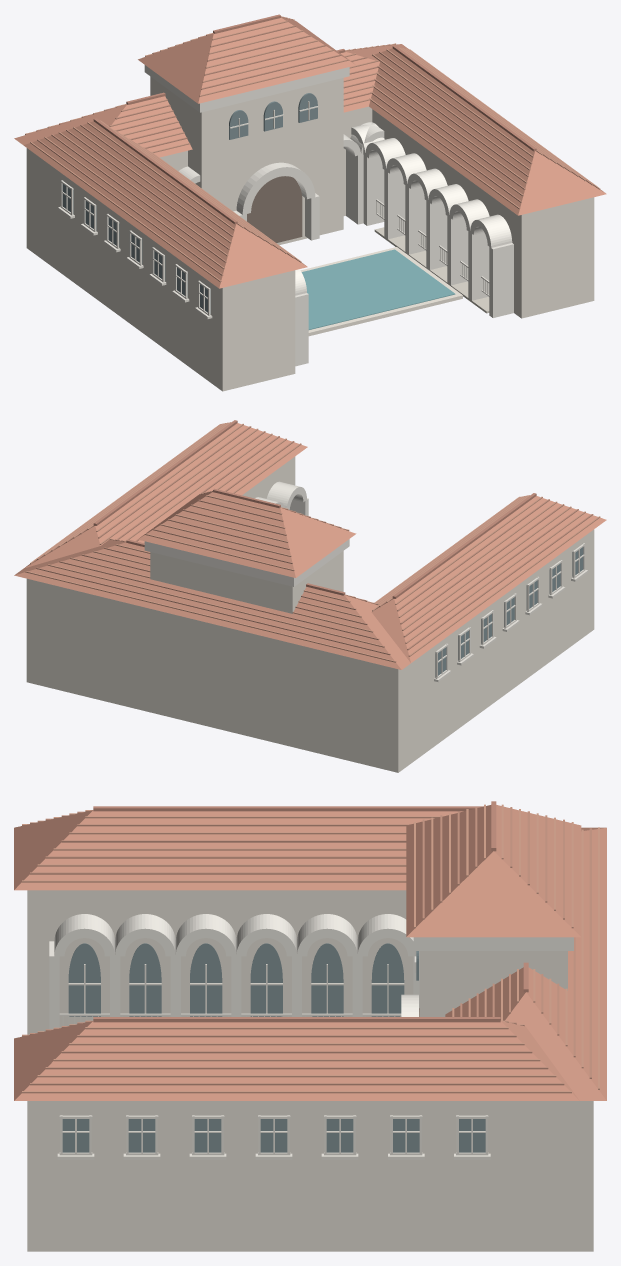
Rendered from hotel-el-prado.glb.
3 views of the same model, one above another, from view 1: azimuth 30°, elevation 25°; view 2: azimuth 150°, elevation 25°; view 3: azimuth 270°, elevation 25° (orthographic). The views are drawn at different scales.
Visible parts, largest first — view 1: hotel-el-prado · Ala occidental baja de la U, hotel-el-prado · Loggia abierta del ala oriental, hotel-el-prado · Torre central de una planta adicional, hotel-el-prado · Cubierta de teja del ala occidental, hotel-el-prado · Cubierta de teja del ala oriental, hotel-el-prado · Ala oriental baja de la U, hotel-el-prado · Cubierta inclinada de teja de la torre, hotel-el-prado · Piscina del patio central, hotel-el-prado · Ala posterior baja de la U, hotel-el-prado · Cubierta de teja del ala posterior, hotel-el-prado · Hueco profundo del portal documentado, hotel-el-prado · Arco moldurado del portal documentado (+9 smaller); view 2: hotel-el-prado · Ala posterior baja de la U, hotel-el-prado · Ala occidental baja de la U, hotel-el-prado · Cubierta de teja del ala posterior, hotel-el-prado · Cubierta de teja del ala occidental, hotel-el-prado · Cubierta inclinada de teja de la torre, hotel-el-prado · Cubierta de teja del ala oriental, hotel-el-prado · Torre central de una planta adicional, hotel-el-prado · Cornisa clara de la torre, hotel-el-prado · Loggia abierta del ala oriental, hotel-el-prado · Ala oriental baja de la U, hotel-el-prado · Hilada de teja, hotel-el-prado · Cumbrera de Cubierta de teja del ala occide (+8 smaller); view 3: hotel-el-prado · Ala oriental baja de la U, hotel-el-prado · Cubierta de teja del ala oriental, hotel-el-prado · Cubierta de teja del ala occidental, hotel-el-prado · Ala occidental baja de la U, hotel-el-prado · Cubierta inclinada de teja de la torre, hotel-el-prado · Ala posterior baja de la U, hotel-el-prado · Loggia abierta del ala occidental, hotel-el-prado · Cubierta de teja del ala posterior, hotel-el-prado · Torre central de una planta adicional, hotel-el-prado · Cumbrera de Cubierta de teja del ala orient, hotel-el-prado · Cumbrera de Cubierta de teja del ala occide, hotel-el-prado · Cornisa clara de la torre (+34 smaller).
Part boxes in pixels (left/top/right/bottom): hotel-el-prado · Ala occidental baja de la U: left=36, top=156, right=295, bottom=391; hotel-el-prado · Loggia abierta del ala oriental: left=351, top=122, right=513, bottom=317; hotel-el-prado · Torre central de una planta adicional: left=150, top=76, right=343, bottom=245; hotel-el-prado · Cubierta de teja del ala occidental: left=23, top=121, right=307, bottom=288; hotel-el-prado · Cubierta de teja del ala oriental: left=369, top=48, right=606, bottom=215; hotel-el-prado · Ala oriental baja de la U: left=372, top=109, right=594, bottom=318; hotel-el-prado · Cubierta inclinada de teja de la torre: left=138, top=17, right=355, bottom=103; hotel-el-prado · Piscina del patio central: left=301, top=249, right=455, bottom=329; hotel-el-prado · Ala posterior baja de la U: left=26, top=106, right=372, bottom=281; hotel-el-prado · Cubierta de teja del ala posterior: left=14, top=44, right=408, bottom=157; hotel-el-prado · Hueco profundo del portal documentado: left=247, top=176, right=302, bottom=242; hotel-el-prado · Arco moldurado del portal documentado: left=233, top=162, right=319, bottom=240; hotel-el-prado · Ala posterior baja de la U: left=26, top=578, right=444, bottom=772; hotel-el-prado · Ala occidental baja de la U: left=407, top=529, right=594, bottom=765; hotel-el-prado · Cubierta de teja del ala posterior: left=14, top=539, right=410, bottom=669; hotel-el-prado · Cubierta de teja del ala occidental: left=371, top=496, right=606, bottom=662; hotel-el-prado · Cubierta inclinada de teja de la torre: left=138, top=491, right=356, bottom=577; hotel-el-prado · Cubierta de teja del ala oriental: left=24, top=423, right=307, bottom=568; hotel-el-prado · Torre central de una planta adicional: left=150, top=551, right=343, bottom=613; hotel-el-prado · Cornisa clara de la torre: left=144, top=539, right=349, bottom=586; hotel-el-prado · Loggia abierta del ala oriental: left=255, top=481, right=308, bottom=515; hotel-el-prado · Ala oriental baja de la U: left=242, top=456, right=295, bottom=498; hotel-el-prado · Hilada de teja: left=25, top=571, right=396, bottom=662; hotel-el-prado · Cumbrera de Cubierta de teja del ala occide: left=392, top=493, right=536, bottom=598; hotel-el-prado · Ala oriental baja de la U: left=27, top=1101, right=566, bottom=1251; hotel-el-prado · Cubierta de teja del ala oriental: left=14, top=1021, right=579, bottom=1100; hotel-el-prado · Cubierta de teja del ala occidental: left=14, top=810, right=463, bottom=890; hotel-el-prado · Ala occidental baja de la U: left=27, top=890, right=413, bottom=1034; hotel-el-prado · Cubierta inclinada de teja de la torre: left=406, top=805, right=581, bottom=937; hotel-el-prado · Ala posterior baja de la U: left=458, top=1101, right=593, bottom=1251; hotel-el-prado · Loggia abierta del ala occidental: left=49, top=914, right=419, bottom=1029; hotel-el-prado · Cubierta de teja del ala posterior: left=445, top=827, right=606, bottom=1100; hotel-el-prado · Torre central de una planta adicional: left=419, top=951, right=567, bottom=1016; hotel-el-prado · Cumbrera de Cubierta de teja del ala orient: left=93, top=1017, right=500, bottom=1022; hotel-el-prado · Cumbrera de Cubierta de teja del ala occide: left=93, top=806, right=483, bottom=811; hotel-el-prado · Cornisa clara de la torre: left=413, top=937, right=573, bottom=950.
Size of the model in its own units: 24 by 12.12 by 22.
